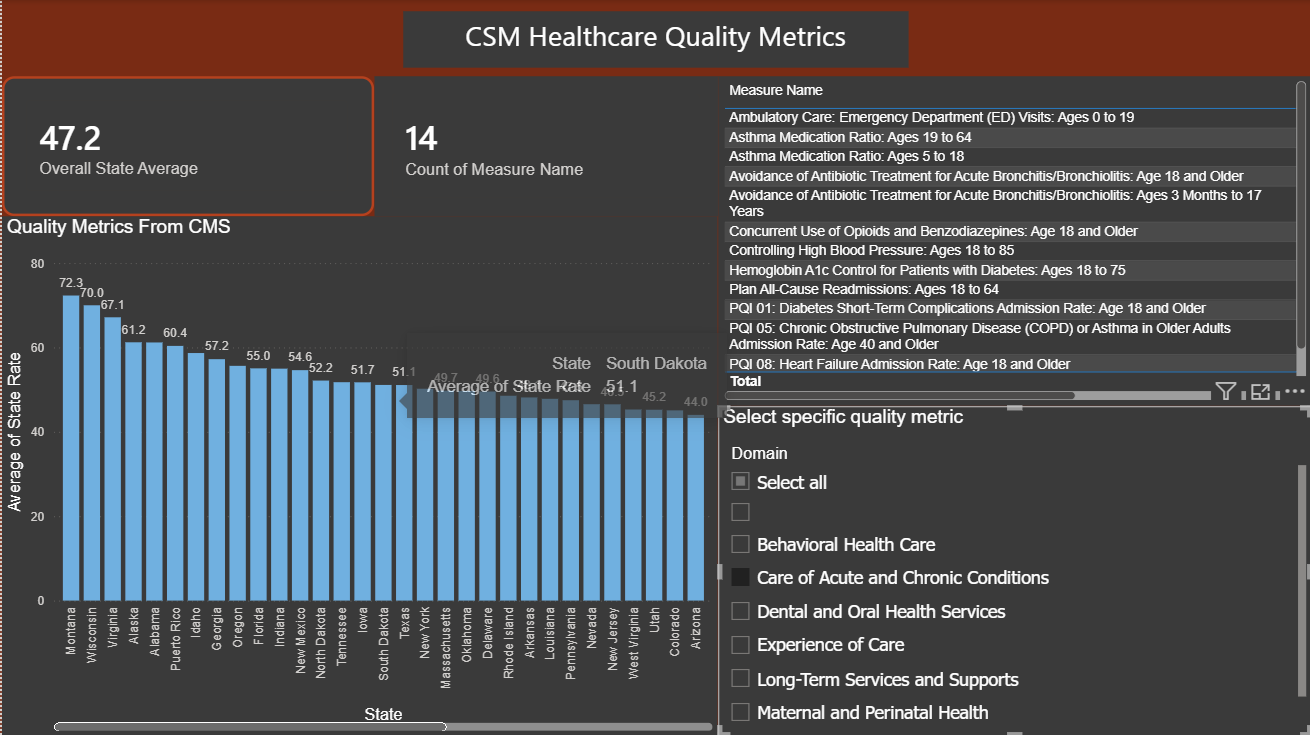

The dashboard page shown, as its layout file describes it:
{"tool":"powerbi","page":{"name":"Dashboard","canvas":[1280,720],"ordinal":0},"visuals":[{"type":"clusteredColumnChart","title":"Quality Metrics From CMS","fields":{"Category":["2024-child-and-adult-health-care-quality-measures.State"],"Y":["Avg(2024-child-and-adult-health-care-quality-measures.State Rate)"]},"box":[0,211.6,700.3,508.6],"z":0},{"type":"slicer","title":"Select specific quality metric","fields":{"Values":["2024-child-and-adult-health-care-quality-measures.Domain"]},"box":[700.3,398,580,322],"z":1000},{"type":"cardVisual","fields":{"Data":["Avg(2024-child-and-adult-health-care-quality-measures.State Rate)"]},"box":[0,74.6,364,137.1],"z":2000},{"type":"cardVisual","fields":{"Data":["Count(2024-child-and-adult-health-care-quality-measures.Measure Name)"]},"box":[364,74.6,336.3,136.8],"z":3000},{"type":"tableEx","fields":{"Values":["2024-child-and-adult-health-care-quality-measures.Measure Name","2024-child-and-adult-health-care-quality-measures.Domain","Sum(2024-child-and-adult-health-care-quality-measures.State Rate)"]},"box":[700.3,74.6,580,322],"z":4000},{"type":"textbox","box":[31.8,0,1216.7,74.6],"z":4001}]}

Visuals, with their boxes in screenshot pixels (x1, y1, x2, y2), scaled from the page's 1280x720 canvas onto the 1310x735 screenshot:
"Quality Metrics From CMS" clusteredColumnChart: [left=0, top=216, right=717, bottom=734]
"Select specific quality metric" slicer: [left=717, top=406, right=1309, bottom=734]
cardVisual - Avg(2024-child-and-adult-health-care-quality-measures.State Rate): [left=0, top=76, right=373, bottom=216]
cardVisual - Count(2024-child-and-adult-health-care-quality-measures.Measure Name): [left=373, top=76, right=717, bottom=216]
tableEx - 2024-child-and-adult-health-care-quality-measures.Measure Name x 2024-child-and-adult-health-care-quality-measures.Domain: [left=717, top=76, right=1309, bottom=405]
textbox: [left=33, top=0, right=1278, bottom=76]
